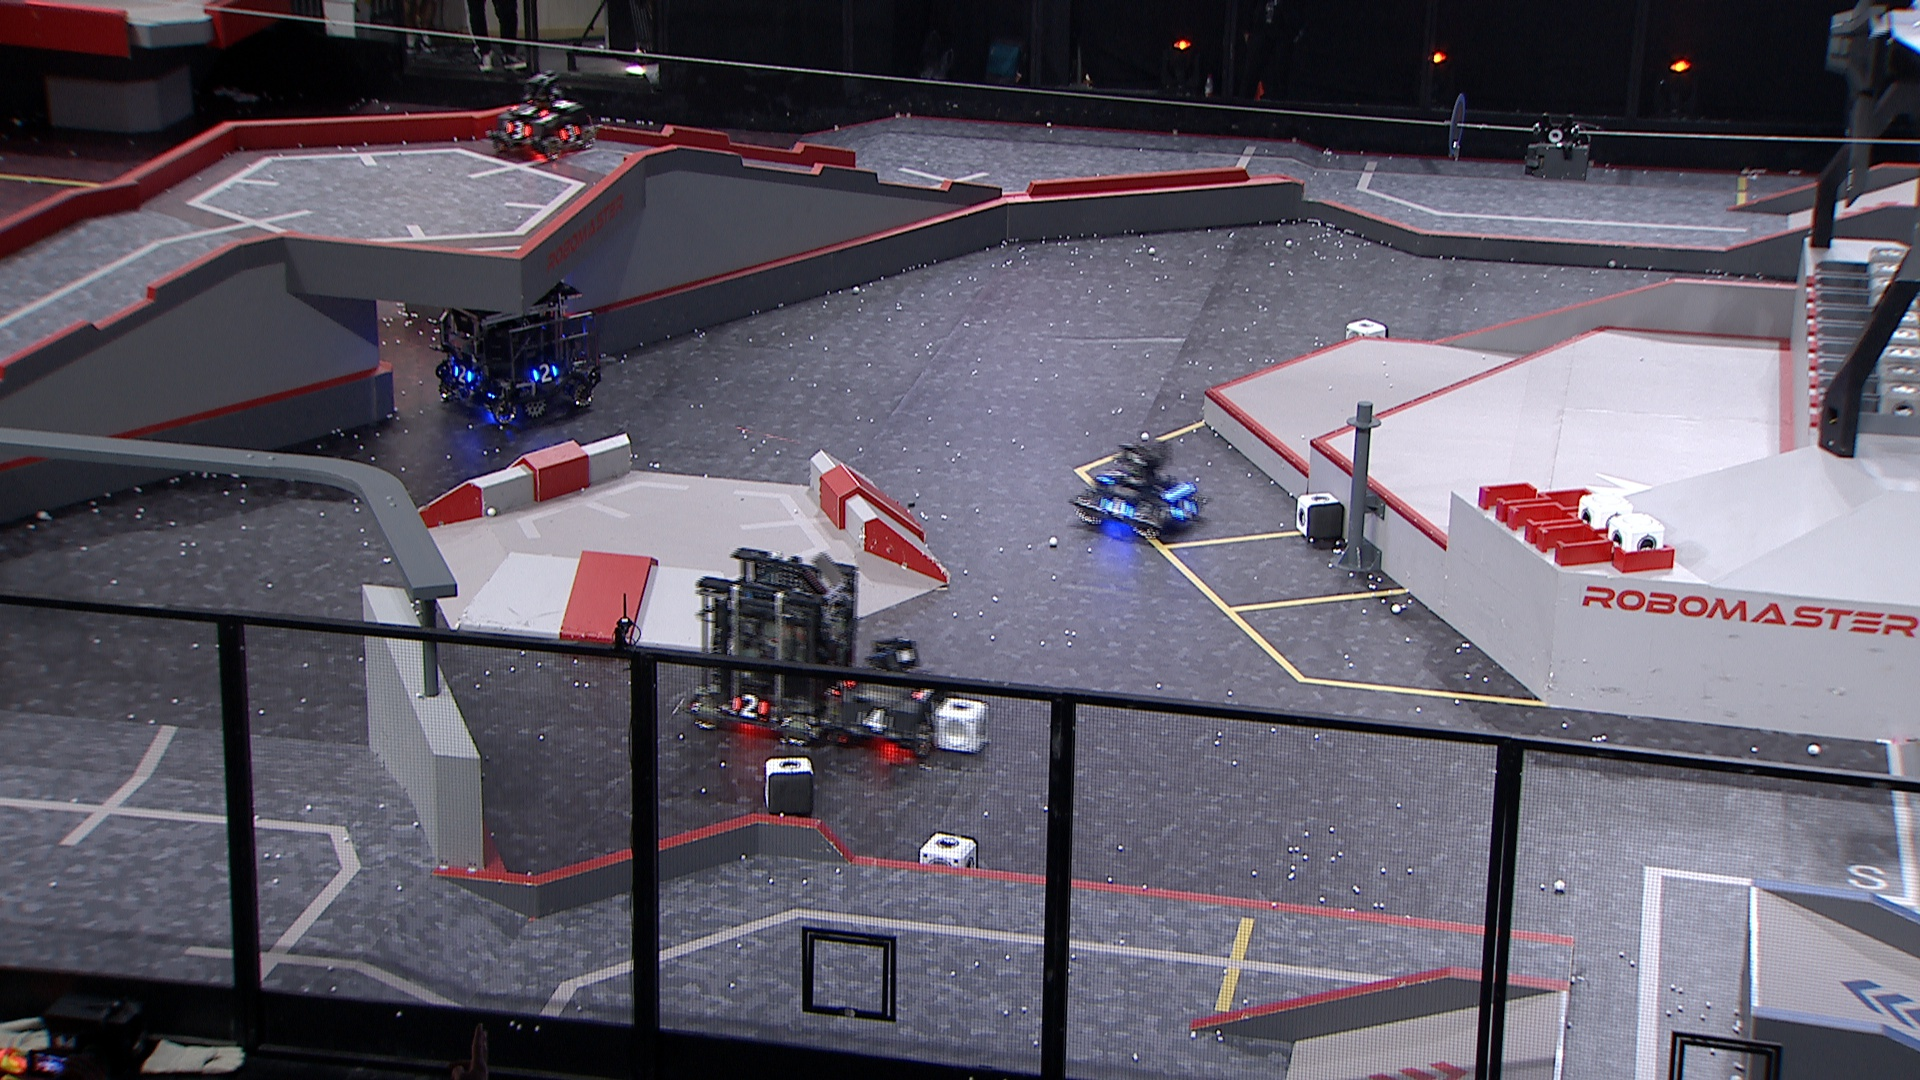armor: (856, 705, 897, 736), (731, 692, 769, 719), (1098, 495, 1134, 522), (1092, 463, 1129, 485), (506, 102, 550, 120), (500, 117, 534, 140), (553, 120, 583, 144), (1171, 498, 1201, 522), (529, 361, 560, 382), (452, 363, 479, 386)
car: (683, 543, 861, 749), (429, 268, 603, 431), (822, 633, 953, 764), (1065, 438, 1211, 541), (483, 65, 599, 164)
